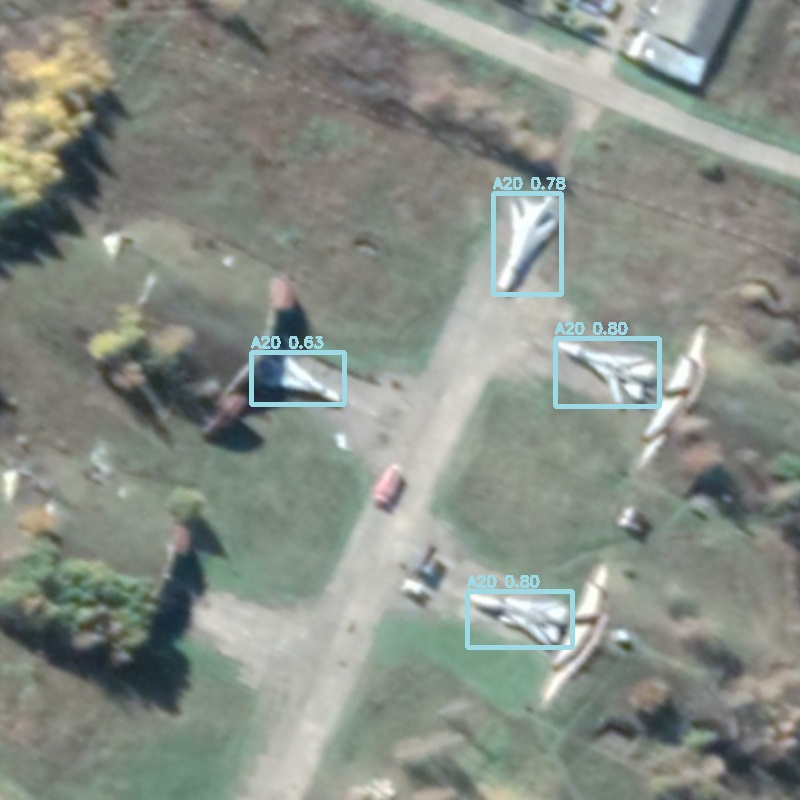A20: (555, 338, 659, 406), (493, 193, 561, 294), (467, 591, 572, 647), (251, 352, 344, 404)
